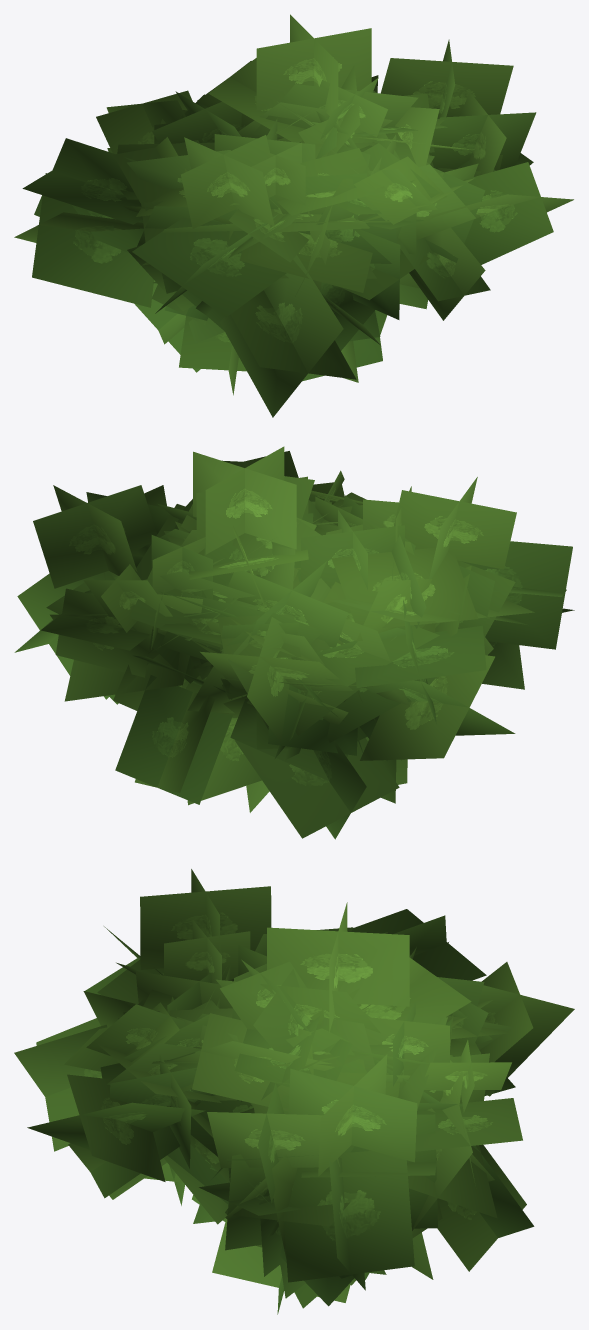
The model's file is saman-muybajo.glb.
3 views of the same model, one above another, from view 1: azimuth 30°, elevation 25°; view 2: azimuth 150°, elevation 25°; view 3: azimuth 270°, elevation 25° (orthographic). The views are drawn at different scales.
Visible parts, largest first — view 1: saman; view 2: saman; view 3: saman.
Part boxes in pixels (box(x1,y1,x2,y2)): saman: box(14, 14, 573, 417); saman: box(14, 446, 574, 839); saman: box(14, 869, 574, 1314).
Bounding box in the file's own units: 35.43 × 22.6 × 30.53.
Materials: 2 (1 with a texture image).
